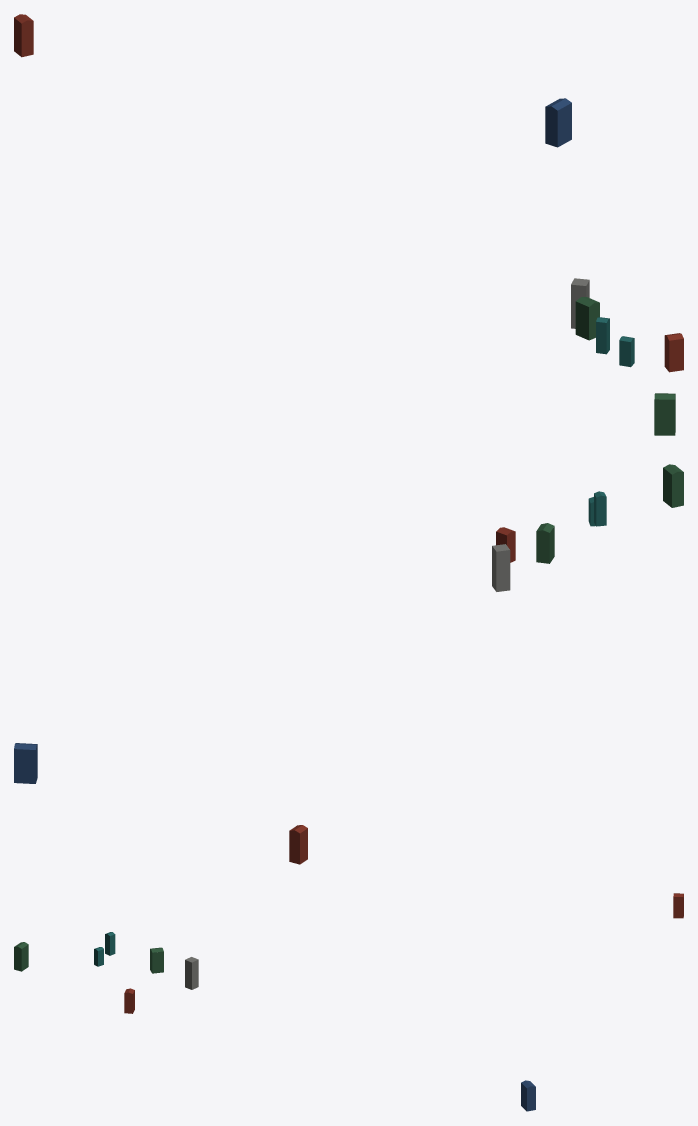
The model's file is near-15-27360-14873.c9d5bdd3.glb.
The picture shows the model from 3 angles, top to bottom: view 1: azimuth 30°, elevation 25°; view 2: azimuth 150°, elevation 25°; view 3: azimuth 270°, elevation 25°; orthographic projection. The views are drawn at different scales.
Size of the model in its own units: 258 by 78.47 by 550.
